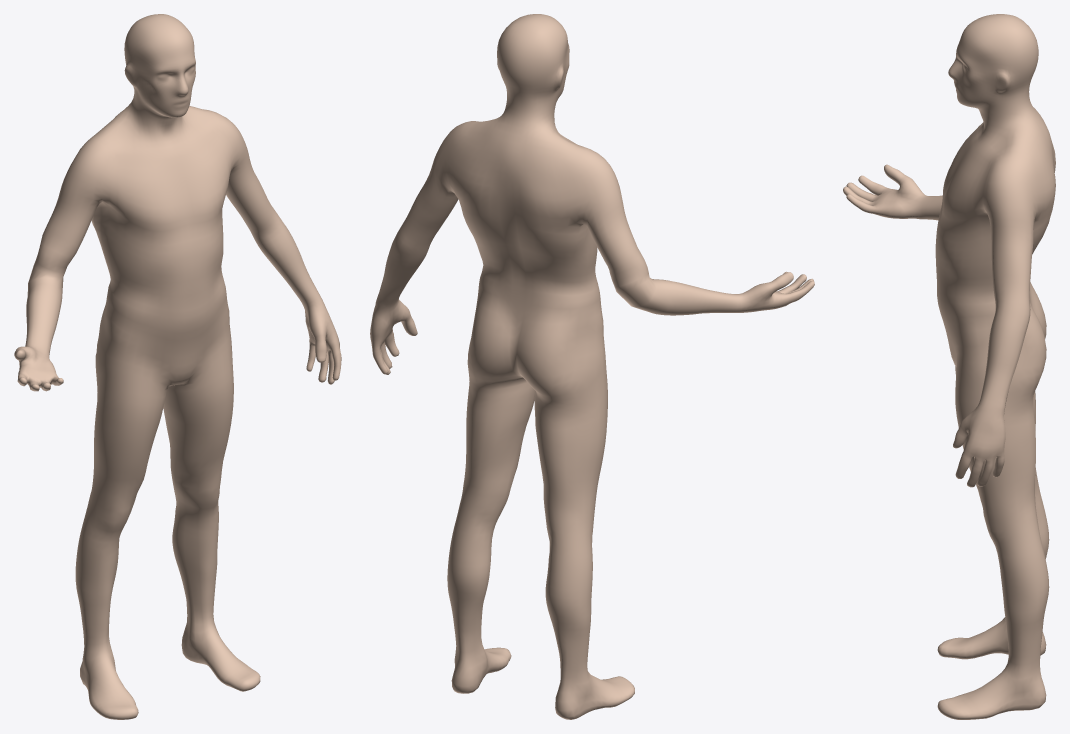
File: Tallman-PH.fbx
The picture shows the model from 3 angles, left to right: view 1: azimuth 30°, elevation 25°; view 2: azimuth 150°, elevation 25°; view 3: azimuth 270°, elevation 25°; orthographic projection.
Visible parts, largest first — view 1: HumanBody:humanBody; view 2: HumanBody:humanBody; view 3: HumanBody:humanBody.
Part boxes in pixels (left/top/right/bottom): HumanBody:humanBody: left=14, top=14, right=341, bottom=719; HumanBody:humanBody: left=370, top=14, right=814, bottom=719; HumanBody:humanBody: left=843, top=14, right=1055, bottom=719.
Bounding box in the file's own units: 1.08 × 1.83 × 0.5283.
